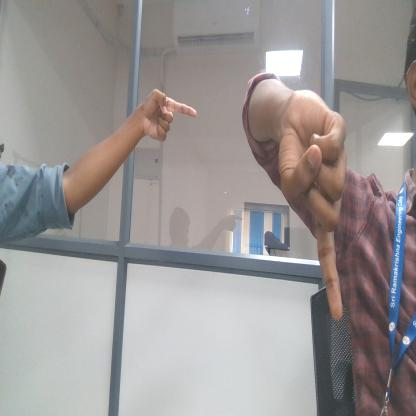Down: (281, 81, 356, 327)
Left: (136, 77, 207, 155)
